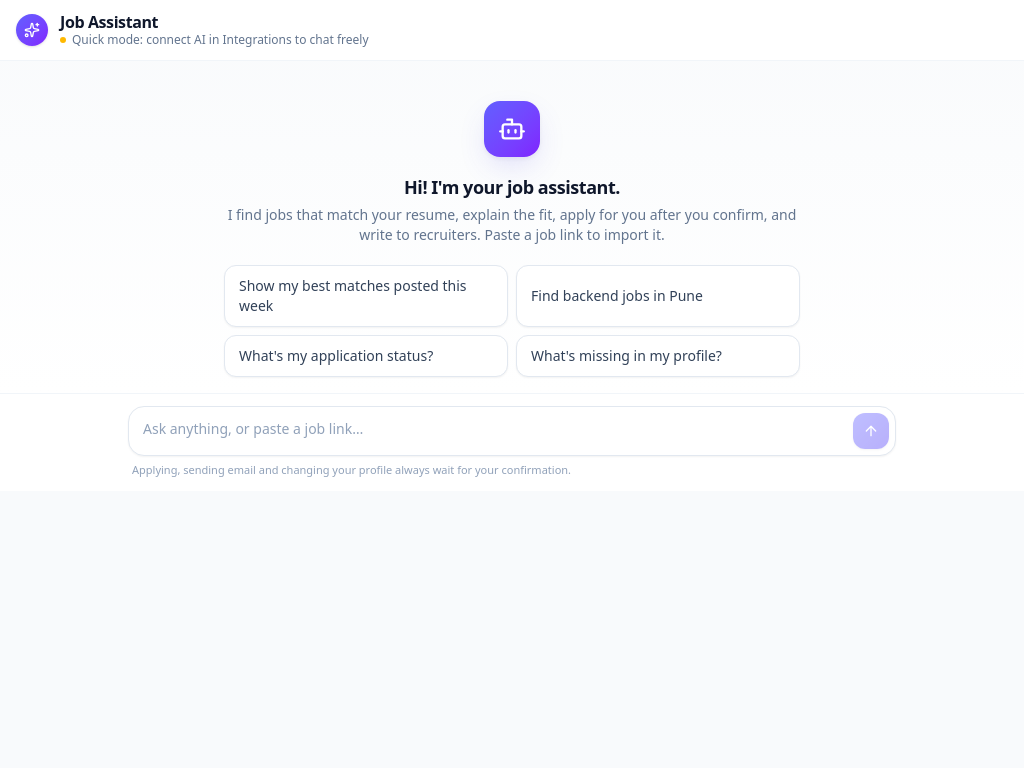
ChatPanel › sends a message, shows job cards and confirms an action only on click
The image size is (1024, 768).
Type "find backend jobs" into the text box named "Message" at (490, 431), box [135, 413, 845, 449]
Then press Enter
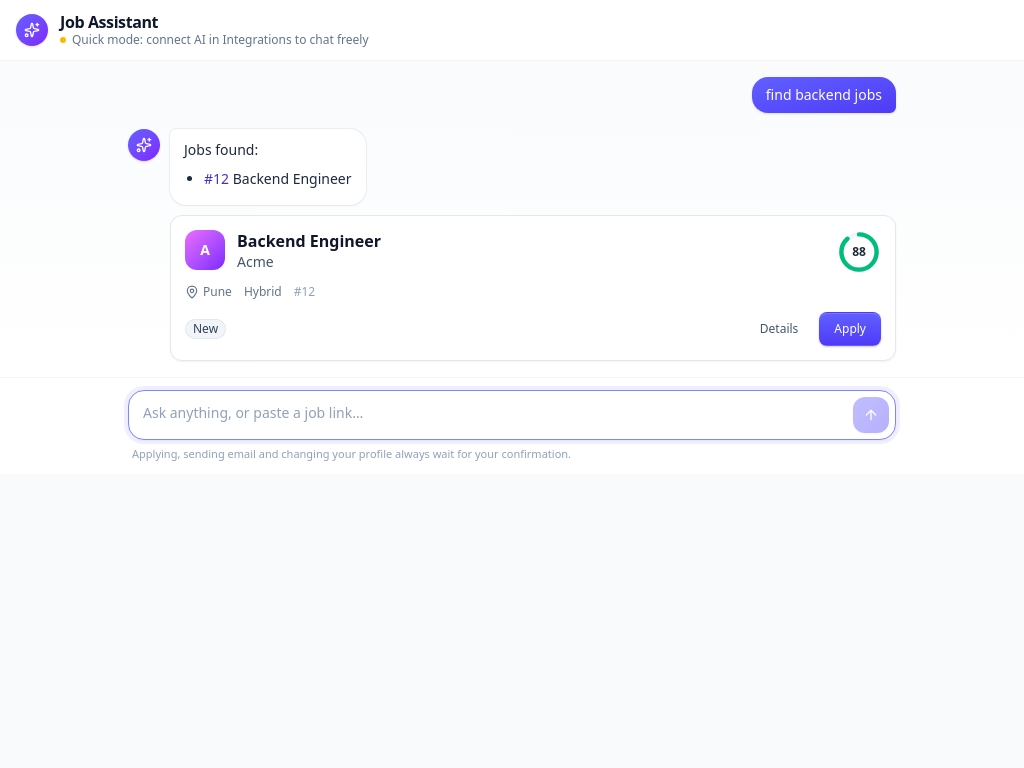
Expected: the text "88" is shown, [852, 244, 866, 260]
Click the button "Apply" at (850, 328), box [819, 312, 881, 346]
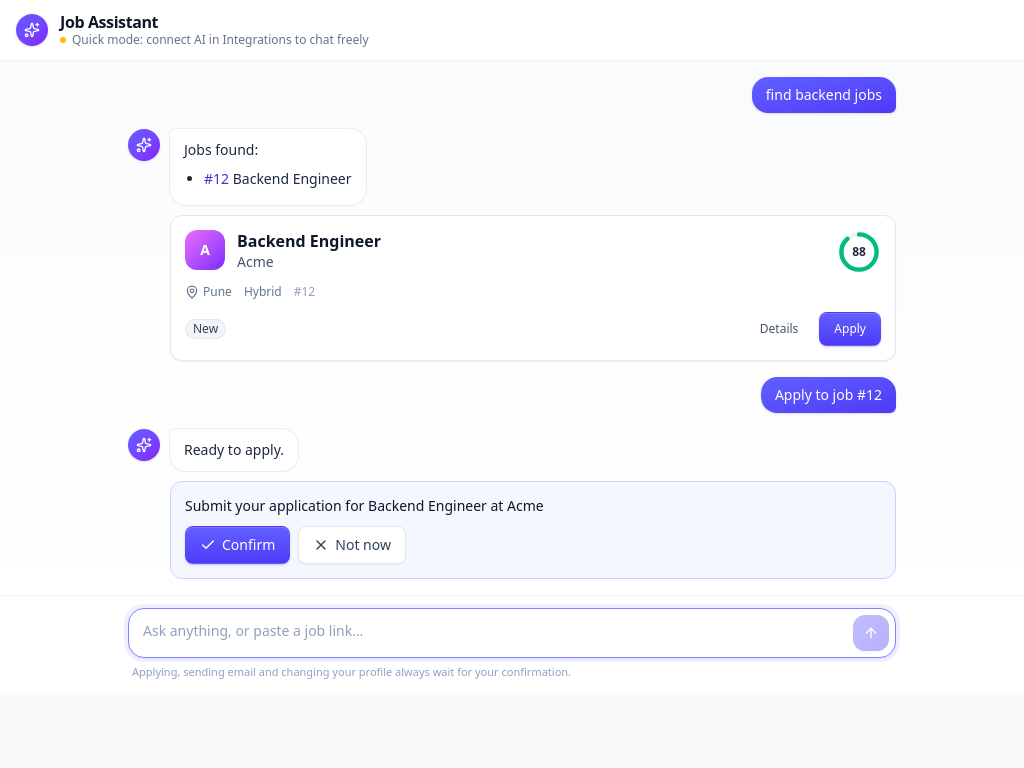
Expected: the text "Submit your application for Backend Engineer at Acme" is shown, [185, 496, 544, 515]
Click the button "Confirm" at (238, 545), box [185, 526, 290, 564]
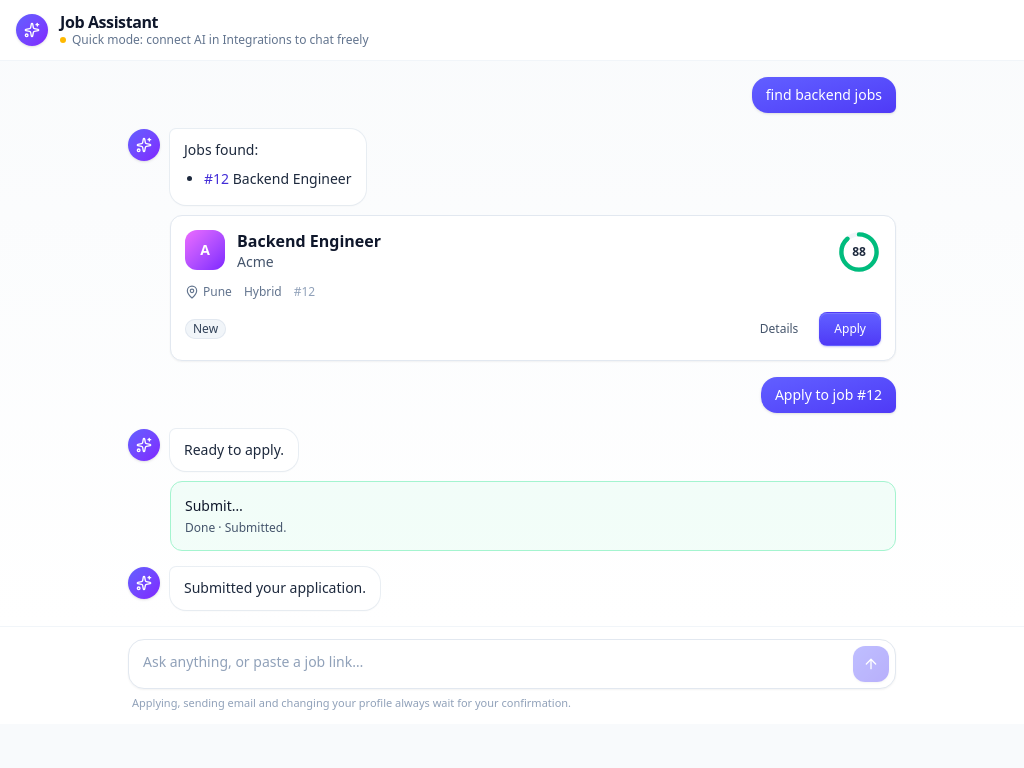
Expected: the text "Submitted your application." is shown, [184, 577, 366, 600]
